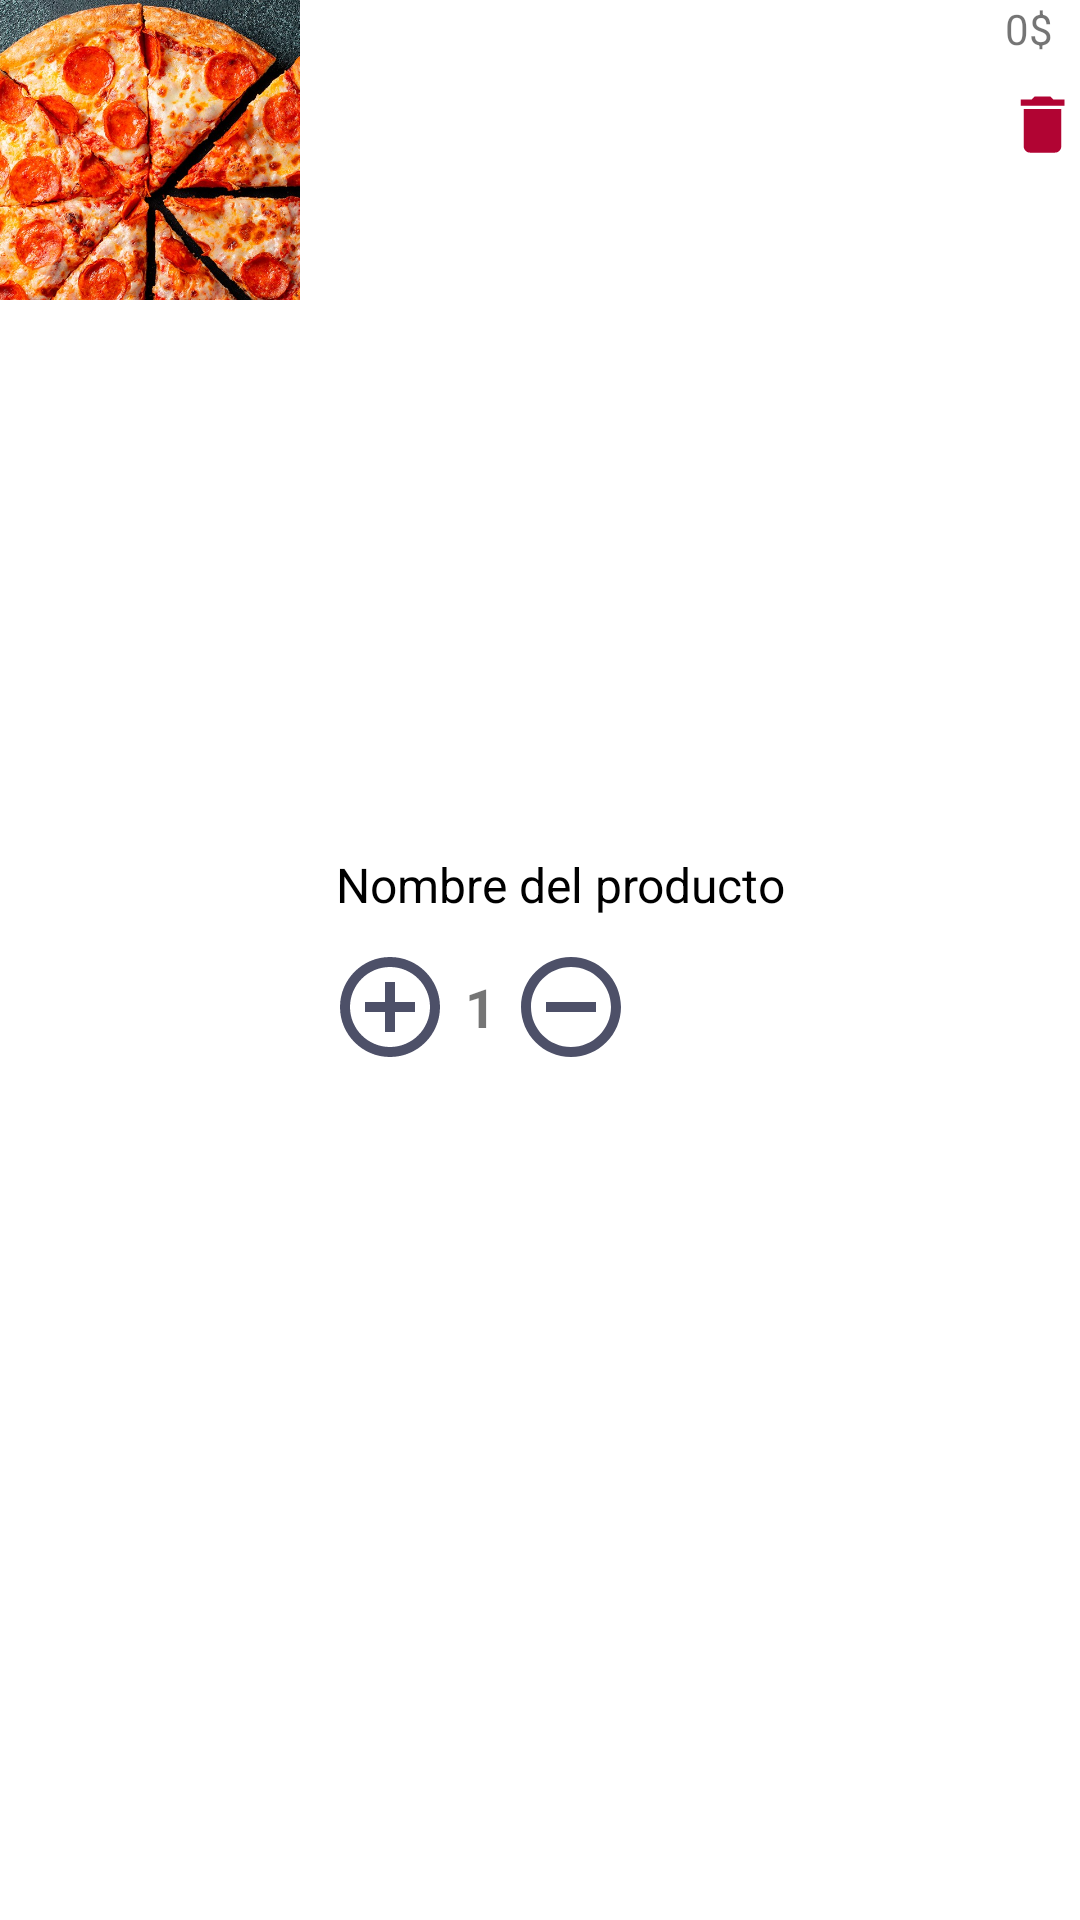

Named icons in this screenshot (1080 × 1920) and their centers, [x,y]:
add: [390,1007]
delete: [1042,124]
pizza: [150,150]
remove: [571,1007]
